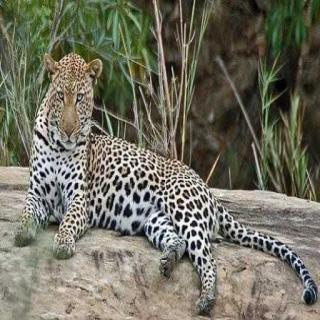Leopard: (31, 50, 309, 320)
